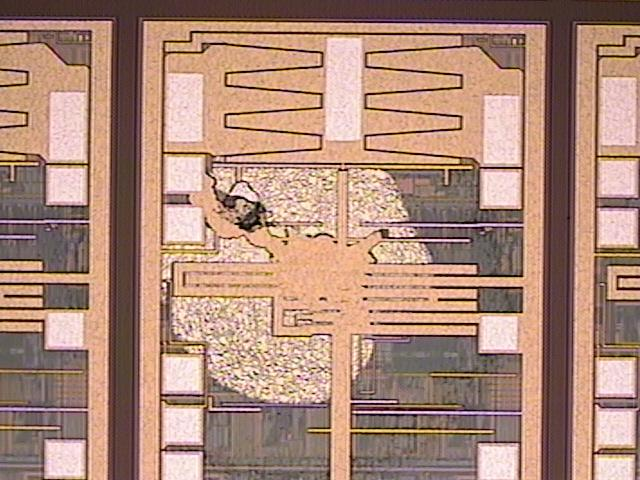BLOCK ETCH: (158, 161, 439, 404)
